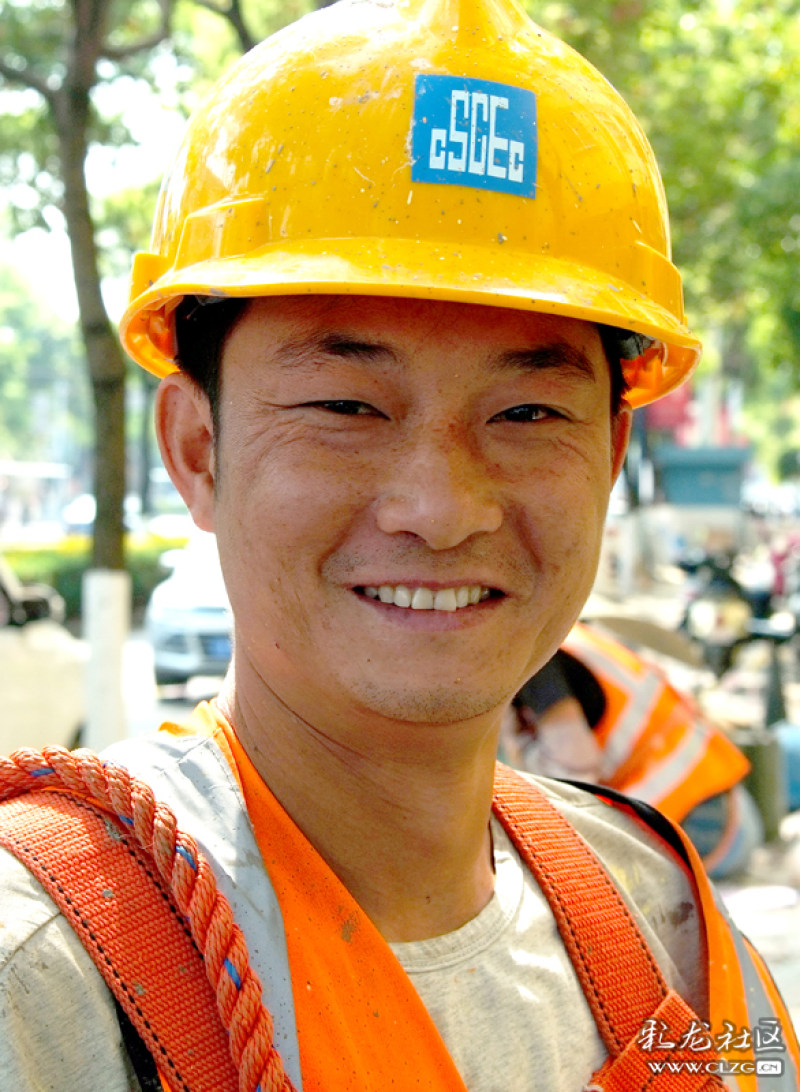safetyhat: (62, 1, 771, 1008)
